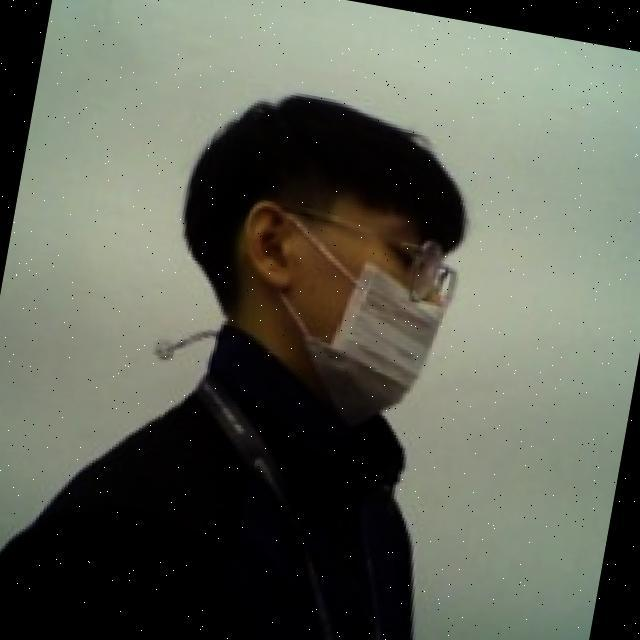mask: (216, 194, 461, 451)
no_gloves: (169, 58, 486, 316)
